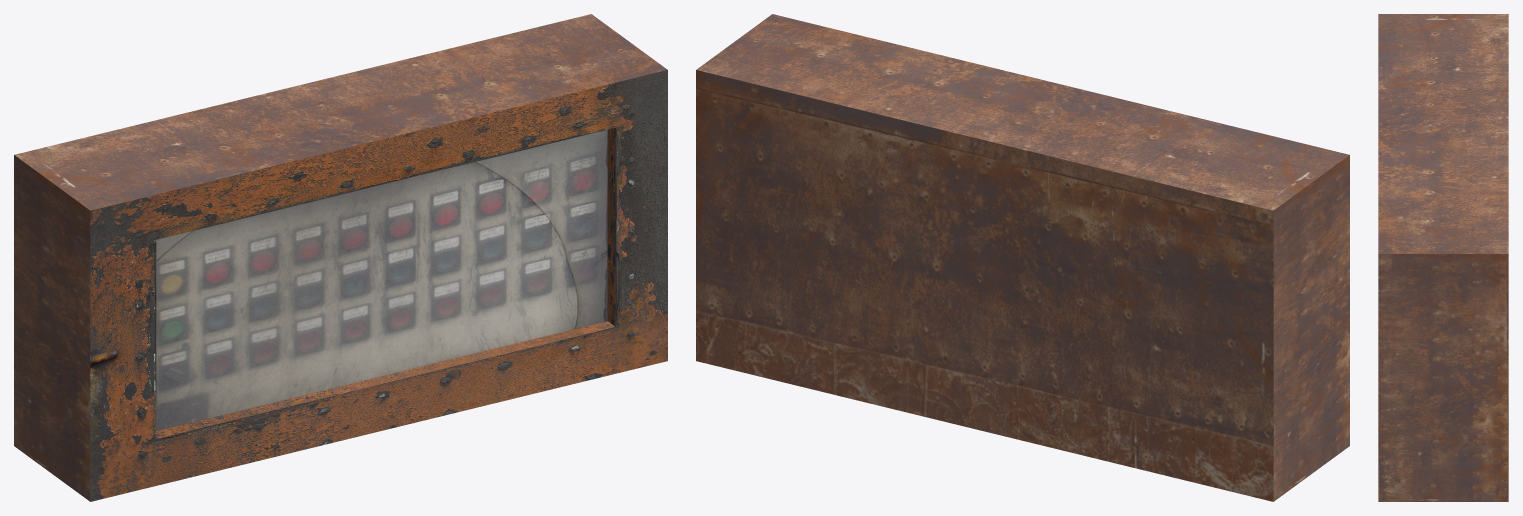
File: controlunit.fbx
3 renders of one model, left to right at view 1: azimuth 30°, elevation 25°; view 2: azimuth 150°, elevation 25°; view 3: azimuth 270°, elevation 25°, orthographic. The views are drawn at different scales.
Visible parts, largest first — view 1: Cube; view 2: Cube; view 3: Cube.
Part boxes in pixels (x1=…): Cube: x1=14, y1=14, x2=667, y2=501; Cube: x1=696, y1=14, x2=1349, y2=501; Cube: x1=1378, y1=14, x2=1508, y2=501.
Size of the model in its own units: 0.5785 by 0.2788 by 0.1325.
